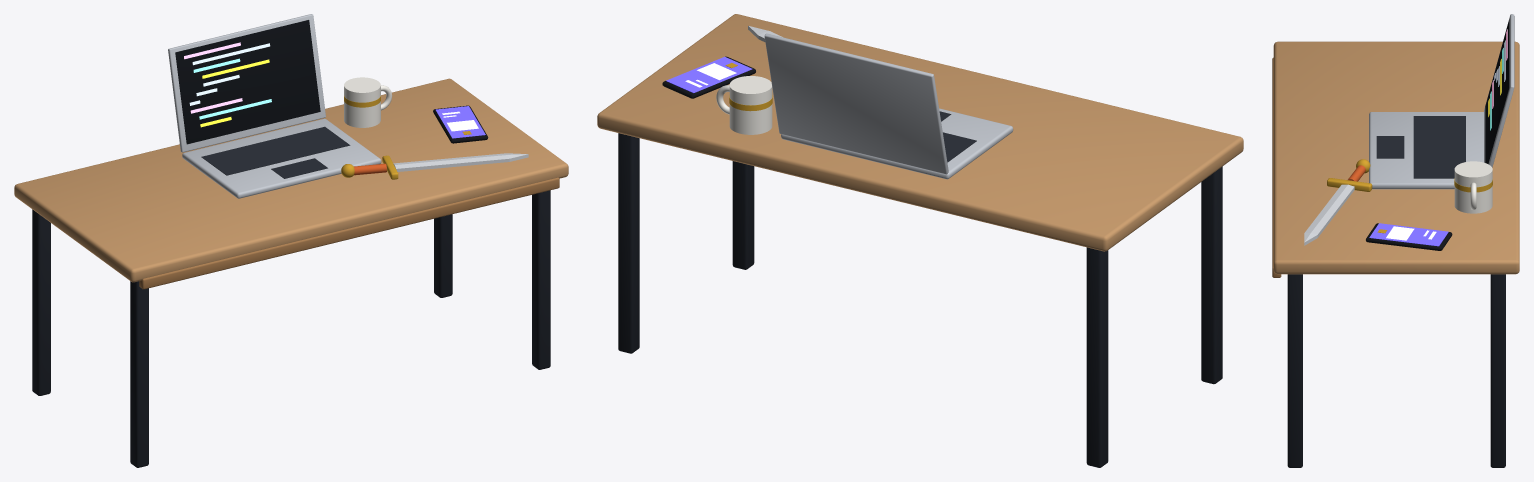
File: desk.glb
3 renders of one model, left to right at view 1: azimuth 30°, elevation 25°; view 2: azimuth 150°, elevation 25°; view 3: azimuth 270°, elevation 25°, orthographic. The views are drawn at different scales.
Visible parts, largest first — view 1: desk_top, lid_screen, laptop_base, desk_lip, leg_-1_-1, leg_-1_1, leg_1_-1, laptop_keys, lid_shell, mug_body, leg_1_1, sword_blade (+2 smaller); view 2: desk_top, lid_shell, leg_-1_1, leg_1_1, leg_-1_-1, laptop_base, leg_1_-1, mug_body, phone_screen; view 3: desk_top, laptop_base, laptop_keys, leg_1_1, leg_1_-1, lid_screen, mug_body, lid_shell, sword_blade, phone_screen, laptop_pad, phone_body (+3 smaller).
Part boxes in pixels (x1,y1,x2,y2): desk_top: (14, 78, 568, 282); lid_screen: (175, 20, 320, 144); laptop_base: (182, 118, 381, 198); desk_lip: (139, 177, 559, 289); leg_-1_-1: (130, 281, 148, 467); leg_-1_1: (32, 209, 50, 395); leg_1_-1: (532, 190, 550, 369); laptop_keys: (201, 126, 350, 175); lid_shell: (168, 14, 325, 152); mug_body: (344, 77, 380, 127); leg_1_1: (434, 214, 452, 297); sword_blade: (393, 153, 528, 171); desk_top: (597, 14, 1243, 251); lid_shell: (764, 33, 948, 174); leg_-1_1: (1086, 247, 1108, 467); leg_1_1: (618, 133, 639, 353); leg_-1_-1: (1201, 166, 1222, 384); laptop_base: (781, 108, 1013, 179); leg_1_-1: (732, 161, 754, 269); mug_body: (729, 76, 772, 134); phone_screen: (666, 56, 752, 92); desk_top: (1273, 41, 1519, 274); laptop_base: (1369, 112, 1483, 189); laptop_keys: (1413, 116, 1465, 178); leg_1_1: (1490, 274, 1505, 467); leg_1_-1: (1287, 274, 1302, 467); lid_screen: (1485, 20, 1509, 163); mug_body: (1454, 161, 1492, 213); lid_shell: (1484, 14, 1514, 167); sword_blade: (1304, 184, 1354, 245); phone_screen: (1369, 223, 1448, 246); laptop_pad: (1376, 136, 1404, 158); phone_body: (1366, 223, 1452, 250).
Size of the model in its own units: 1.7 by 1.14 by 0.805.
